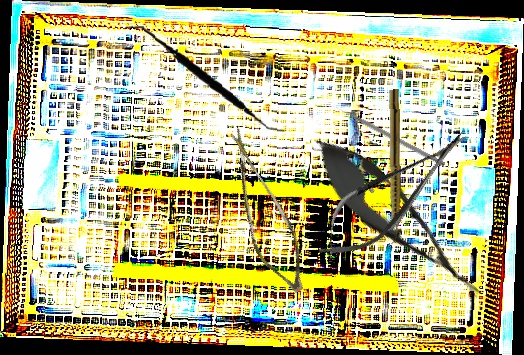Handpiece: (386, 89, 402, 244)
Hook Surgical: (331, 102, 447, 168)
Micro Scissor: (296, 122, 500, 316), (301, 113, 486, 276), (192, 125, 332, 300)
Spatula Surgical: (117, 24, 293, 135)
